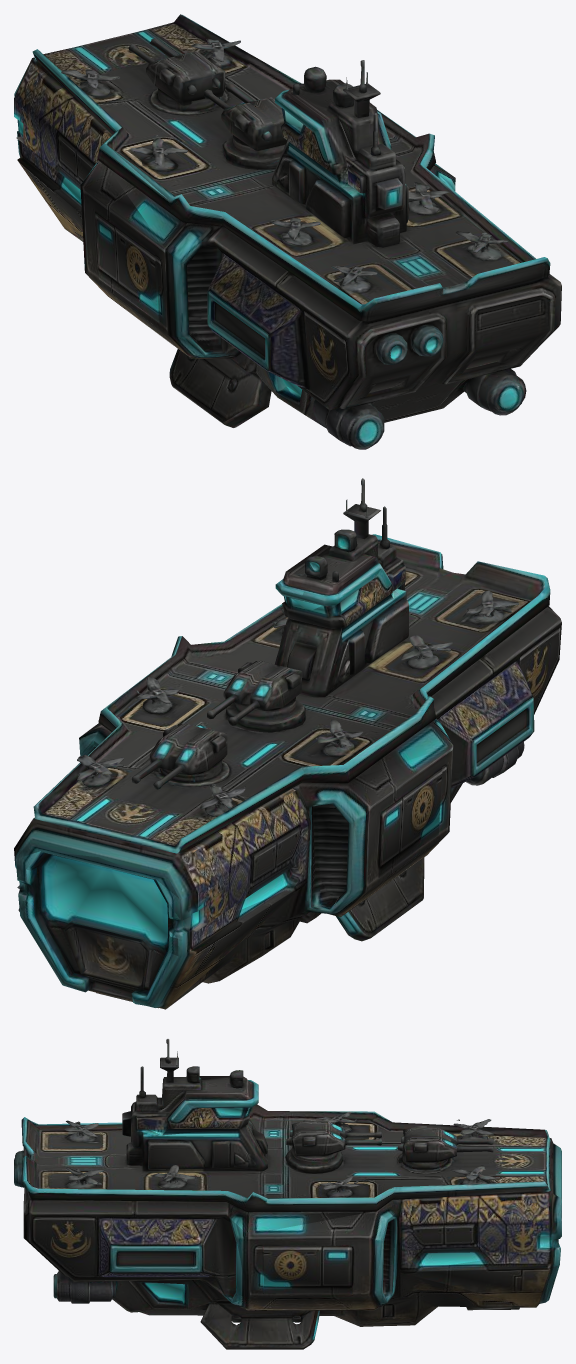
File: hub_hauler.glb
3 renders of one model, top to bottom at view 1: azimuth 30°, elevation 25°; view 2: azimuth 150°, elevation 25°; view 3: azimuth 270°, elevation 25°, orthographic. The views are drawn at different scales.
Parts seen in each view (by area): view 1: Body, Trim; view 2: Body, Trim; view 3: Body, Trim.
Boxes of the visible parts, left/top/right/bottom form: Body: left=14, top=14, right=561, bottom=449; Trim: left=17, top=90, right=550, bottom=442; Body: left=14, top=478, right=561, bottom=1009; Trim: left=16, top=534, right=550, bottom=1001; Body: left=14, top=1039, right=561, bottom=1349; Trim: left=22, top=1077, right=560, bottom=1339.
Size of the model in its own units: 11.14 by 13.91 by 24.43.
Materials: 2 (2 with a texture image).
